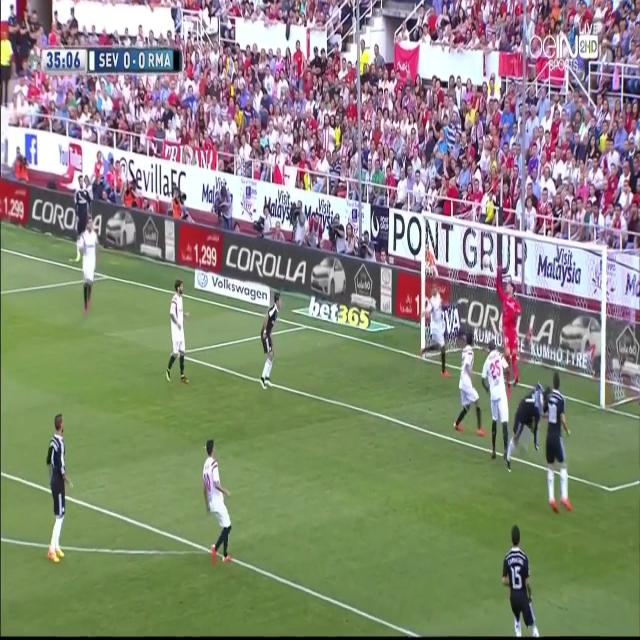Ball: (480, 248, 493, 273)
Goalkeeper: (494, 261, 524, 390)
Player: (42, 414, 74, 570), (501, 520, 542, 638), (200, 439, 237, 567), (502, 384, 552, 473), (482, 336, 511, 475), (544, 371, 570, 515), (163, 273, 195, 386), (452, 329, 482, 442), (420, 286, 452, 379), (76, 213, 101, 320), (258, 289, 282, 393)
